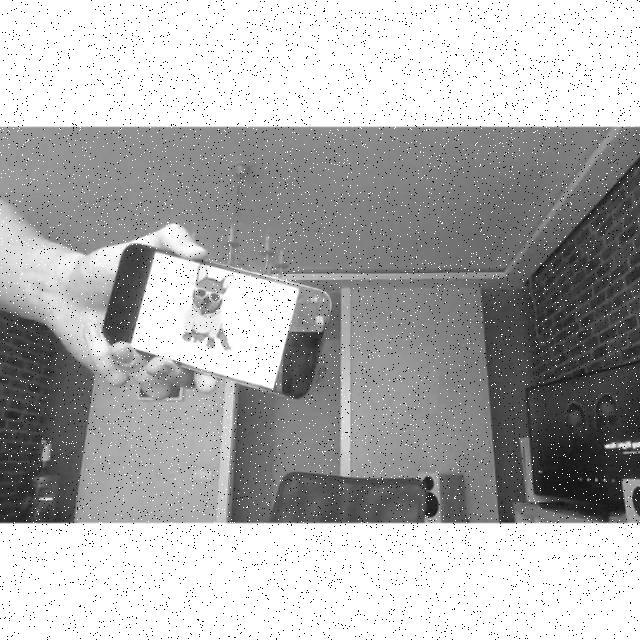fake: (99, 244, 333, 401)
